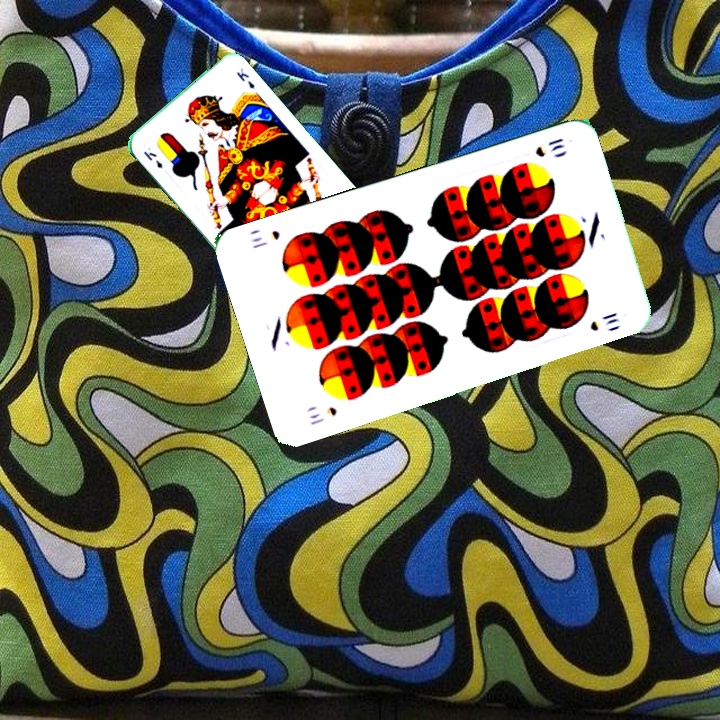EK: (139, 147, 165, 171)
S10: (531, 134, 567, 160), (305, 402, 339, 428)
